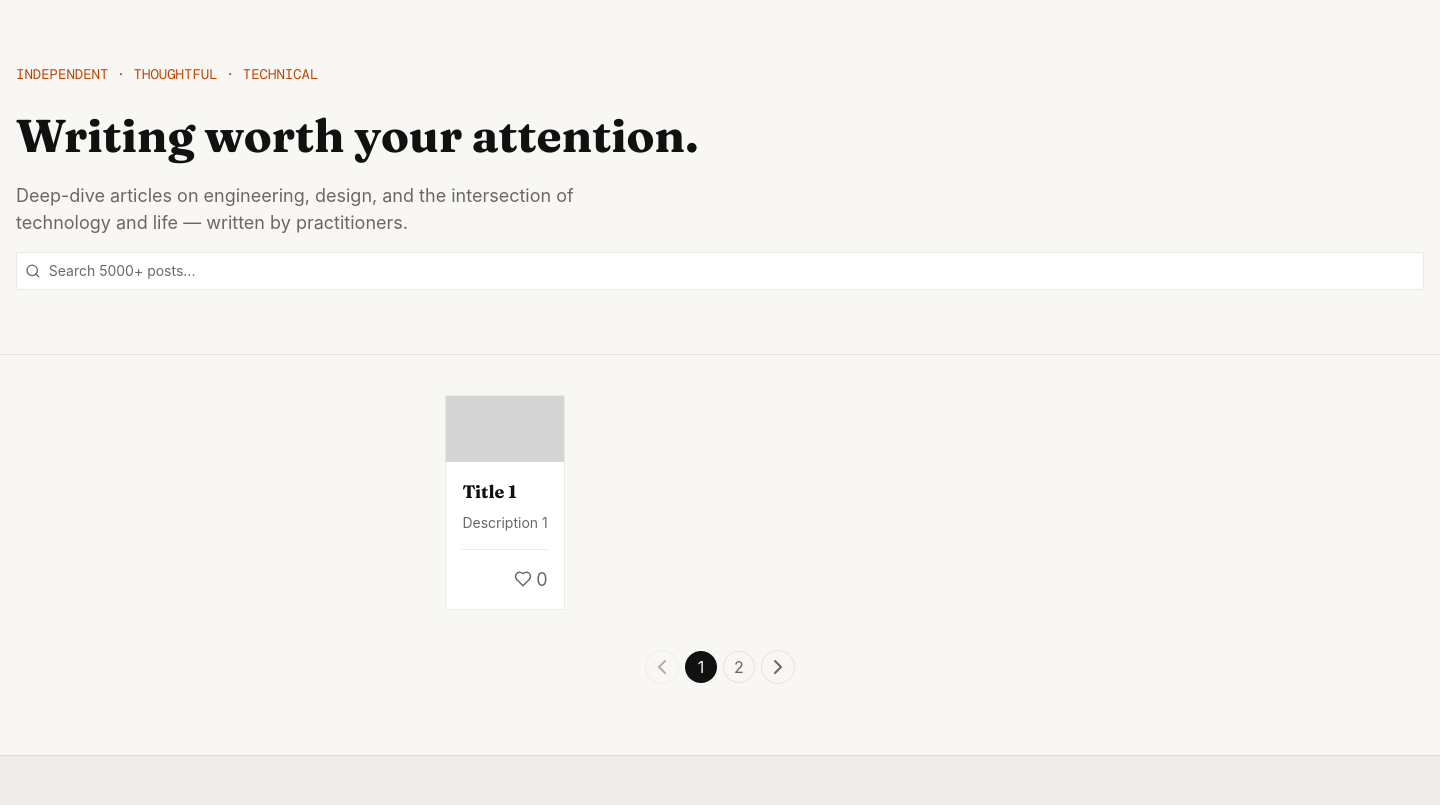
Test case: Home component › Pagination › should properly render pagination and do navigation
The width and height of the screenshot is (1440, 805).
Expected: the navigation bar is shown, [645,650,795,684]
Expected: the heading "Title 1" is shown, [462,480,517,503]
What coordinates should you click on to do the following:
click the button named "next page"
I would click on:
 (778, 667)
Its box is [761,650,795,684].
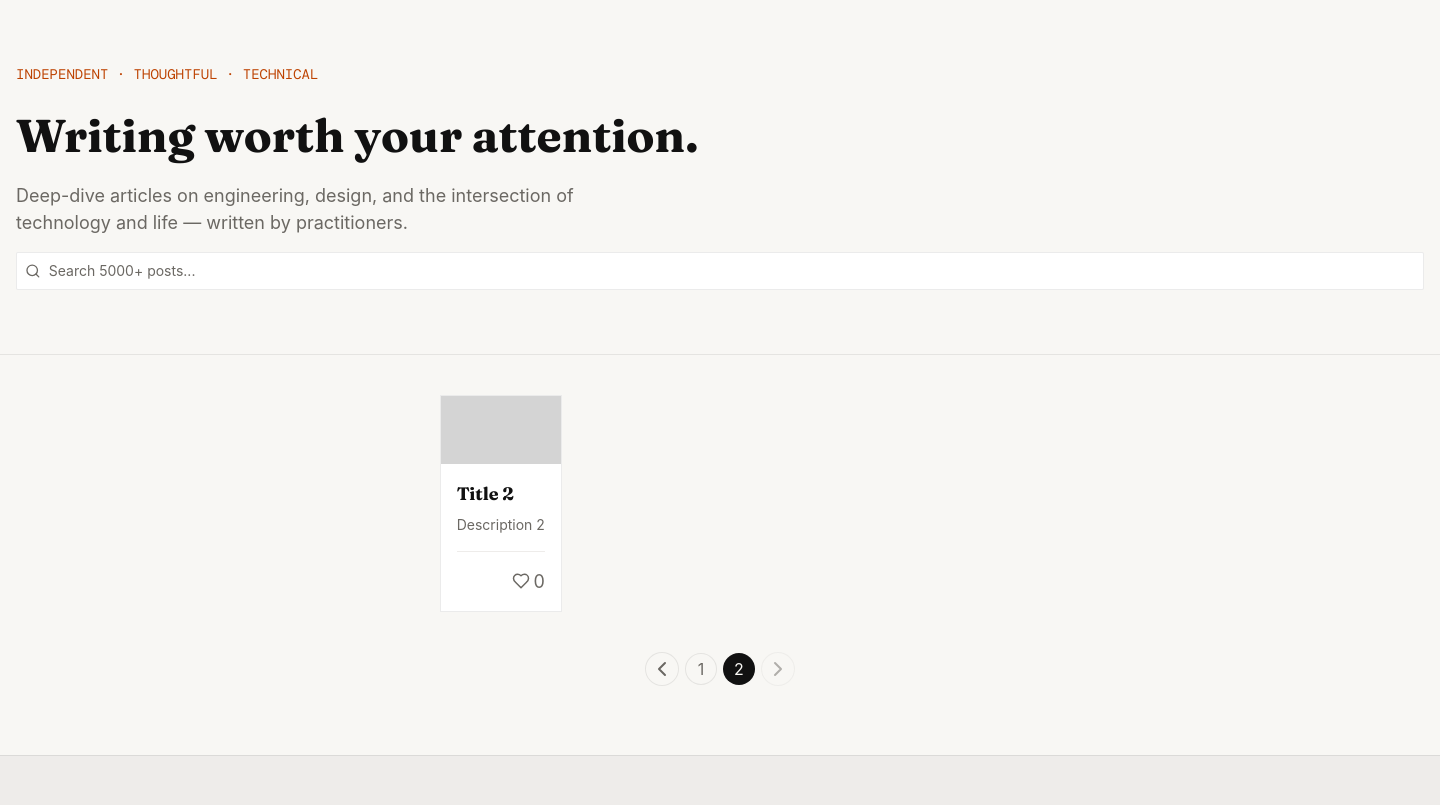
Now the heading "Title 2" is shown, box [457,482,514,505]
